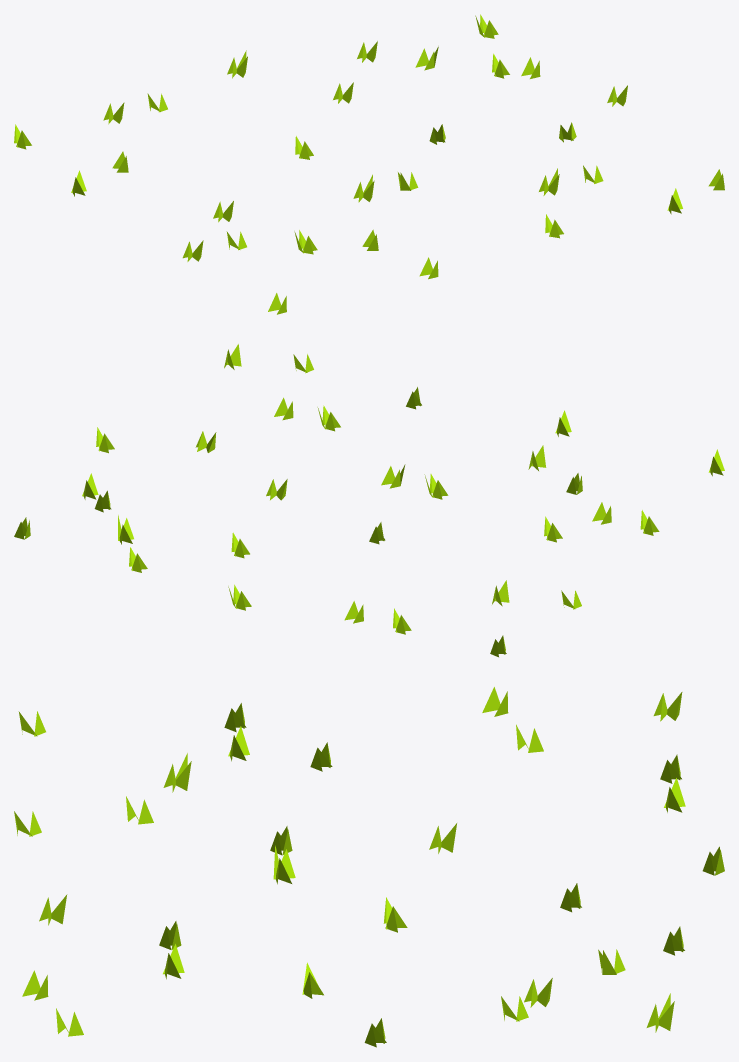
Rendered from grass.fbx.
The picture shows the model from 3 angles, top to bottom: view 1: azimuth 30°, elevation 25°; view 2: azimuth 150°, elevation 25°; view 3: azimuth 270°, elevation 25°; orthographic projection. The views are drawn at different scales.
Visible parts, largest first — view 1: Grass_Patch_Square_01.001; view 2: Grass_Patch_Square_01.001; view 3: Grass_Patch_Square_01.001.
Boxes of the visible parts, x1,y1,x2,y2 form: Grass_Patch_Square_01.001: (14,14,724,314); Grass_Patch_Square_01.001: (14,344,724,657); Grass_Patch_Square_01.001: (14,687,724,1047).
Bounding box in the file's own units: 360 × 15.86 × 317.
